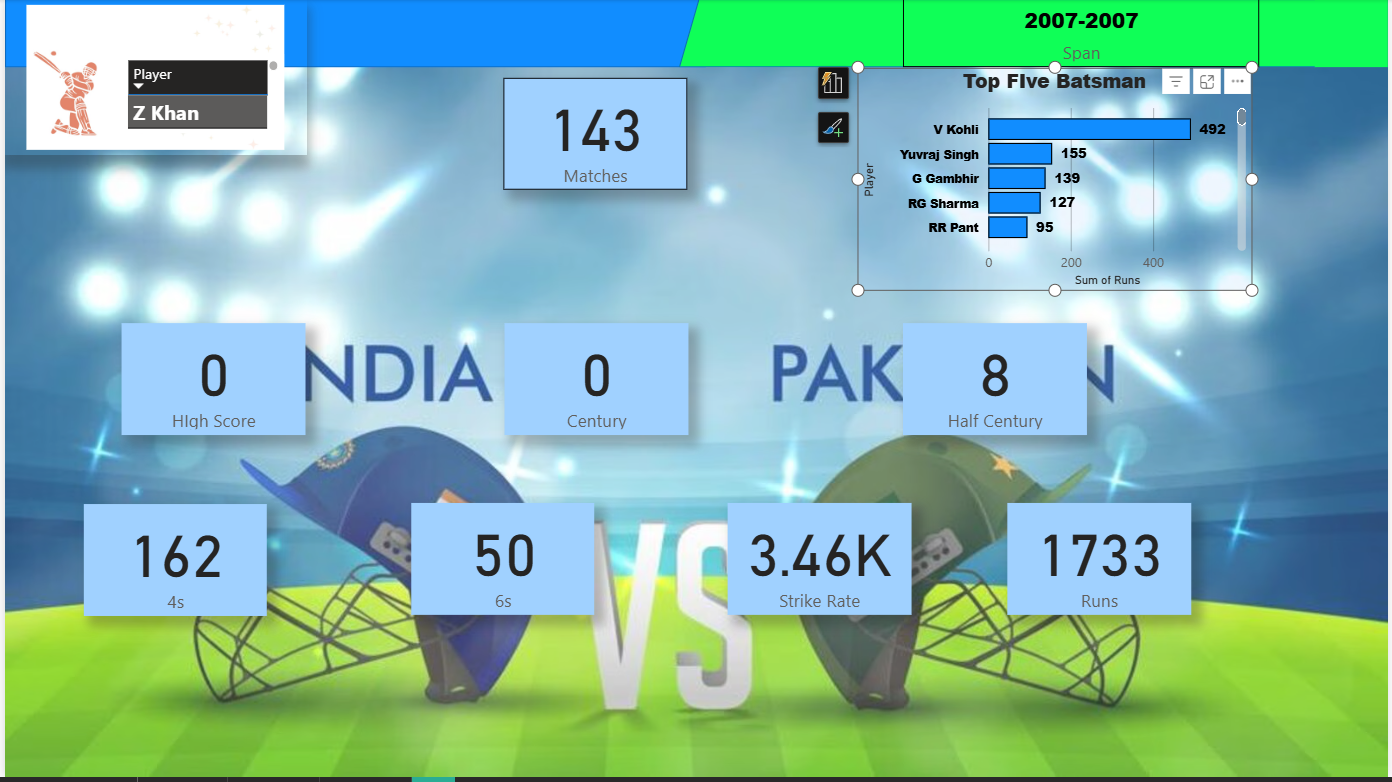

This screenshot's page, from the dashboard's own definition file:
{"tool":"powerbi","page":{"name":"Batting","canvas":[1280,720],"ordinal":0},"visuals":[{"type":"shape","box":[0,0,648.9,63.3],"z":0},{"type":"shape","box":[623.3,0,608.9,63.3],"z":1000},{"type":"shape","box":[1212.2,0,67.8,63.3],"z":2000},{"type":"image","box":[0,0,278.9,144.4],"z":3000},{"type":"tableEx","fields":{"Values":["Batting.Player"]},"box":[107.8,51.1,150,73.3],"z":4000},{"type":"card","fields":{"Values":["Batting.HS"]},"box":[107.8,300,170,103.3],"z":5000},{"type":"card","fields":{"Values":["Batting.4s"]},"box":[73.2,467.5,169.7,103.7],"z":6000},{"type":"card","fields":{"Values":["Batting.6s"]},"box":[375.9,466.3,169.7,103.7],"z":7000},{"type":"card","fields":{"Values":["Batting.Span"]},"box":[831.1,0,330,63.3],"z":8000},{"type":"card","fields":{"Values":["Batting.Runs"]},"box":[927.8,466.7,170,103.3],"z":9000},{"type":"card","fields":{"Values":["Batting.100"]},"box":[462.2,300,170,103.3],"z":10000},{"type":"card","fields":{"Values":["Batting.50"]},"box":[831.1,300,170,103.3],"z":11000},{"type":"card","fields":{"Values":["Batting.SR"]},"box":[668.9,466.7,170,103.3],"z":12000},{"type":"card","fields":{"Values":["Batting.Mat"]},"box":[461.1,73.3,170,103.3],"z":13000},{"type":"clusteredBarChart","title":"Top FIve Batsman","fields":{"Category":["Batting.Player"],"Y":["Batting.Runs"]},"box":[788.9,63.3,364.4,206.7],"z":14000}]}

Visuals, with their boxes in screenshot pixels (x1, y1, x2, y2), scaled from the page's 1280x720 canvas onto the 1392x782 screenshot:
shape: Rect(0, 0, 706, 69)
shape: Rect(678, 0, 1340, 69)
shape: Rect(1318, 0, 1391, 69)
image: Rect(0, 0, 303, 157)
tableEx - Batting.Player: Rect(117, 56, 280, 135)
card - Batting.HS: Rect(117, 326, 302, 438)
card - Batting.4s: Rect(80, 508, 264, 620)
card - Batting.6s: Rect(409, 506, 593, 619)
card - Batting.Span: Rect(904, 0, 1263, 69)
card - Batting.Runs: Rect(1009, 507, 1194, 619)
card - Batting.100: Rect(503, 326, 688, 438)
card - Batting.50: Rect(904, 326, 1089, 438)
card - Batting.SR: Rect(727, 507, 912, 619)
card - Batting.Mat: Rect(501, 80, 686, 192)
"Top FIve Batsman" clusteredBarChart: Rect(858, 69, 1254, 293)
